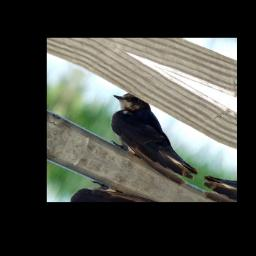Swallow: (89, 87, 218, 190)
